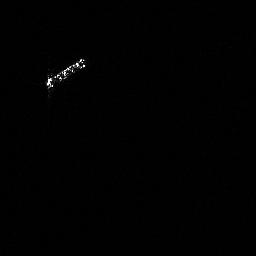ship: (45, 55, 87, 96)
